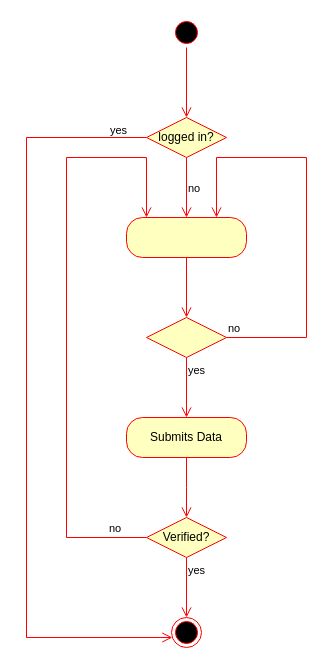
This 334x665 diagram has some shape labels left out. The shapes that lost their labels are listed below. From the top down, each one's centre as x and y in pixels, then its label:
the point at 186,237: Enters Username, Password and Position
the point at 186,337: Valid?
